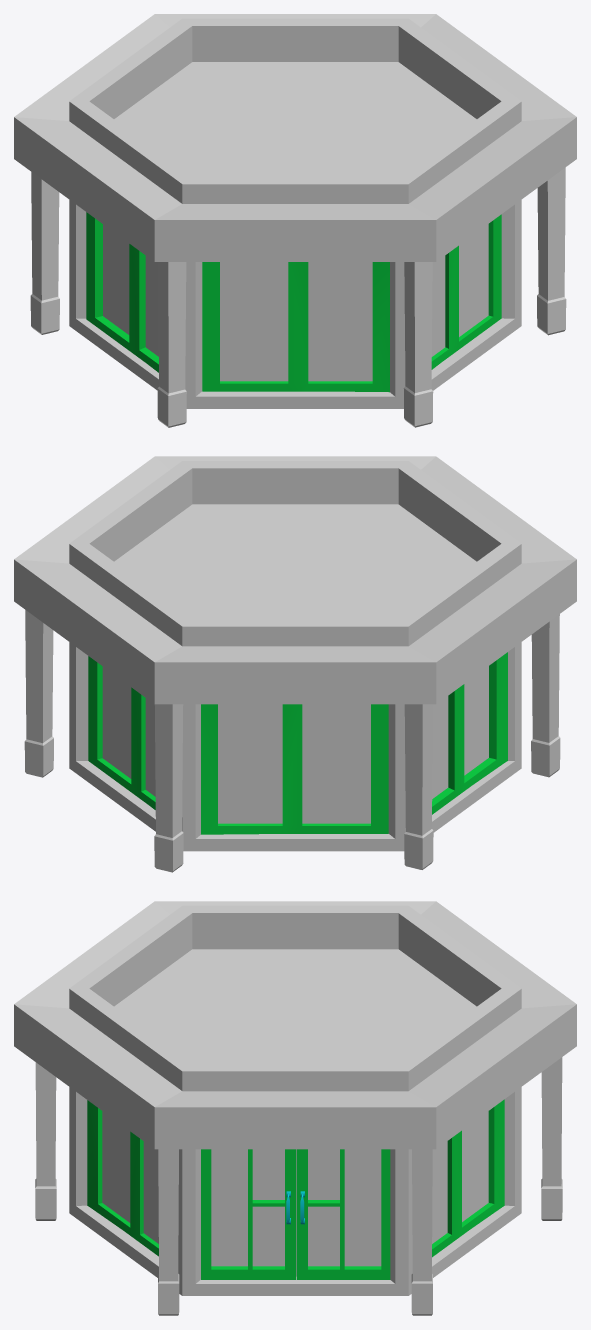
The model's file is Bat_Prado_2.2.fbx.
3 renders of one model, top to bottom at view 1: azimuth 30°, elevation 25°; view 2: azimuth 150°, elevation 25°; view 3: azimuth 270°, elevation 25°, orthographic.
Parts seen in each view (by area): view 1: Bat_Prado_2.2; view 2: Bat_Prado_2.2; view 3: Bat_Prado_2.2.
Part boxes in pixels (x1,y1,x2,y2): Bat_Prado_2.2: [14, 14, 576, 427]; Bat_Prado_2.2: [14, 456, 576, 872]; Bat_Prado_2.2: [14, 901, 576, 1315].
Size of the model in its own units: 979 by 508 by 1130.
